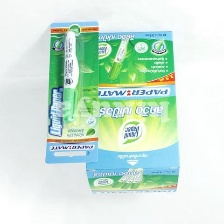book: (81, 27, 183, 198), (43, 18, 101, 165)
correction_fluid: (59, 28, 81, 125)
